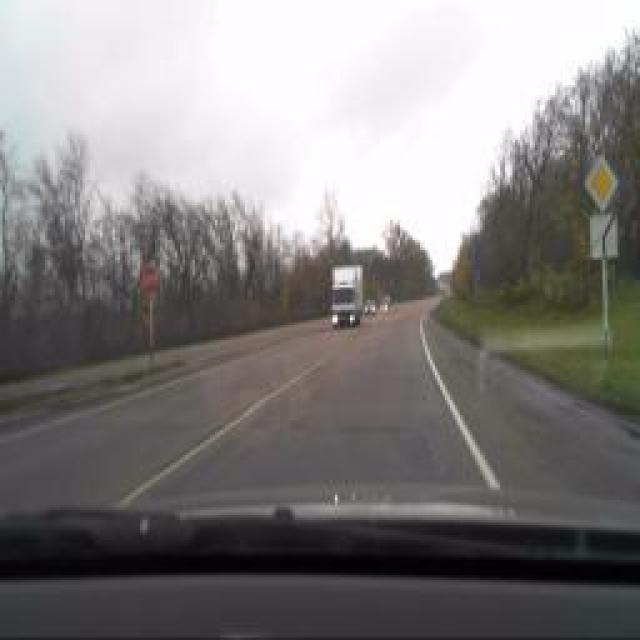sign: (142, 265, 158, 293)
